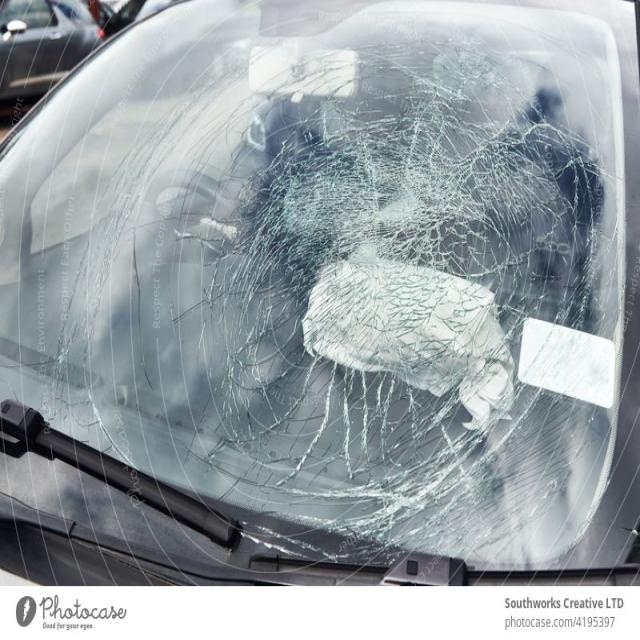crack: (171, 23, 608, 571)
